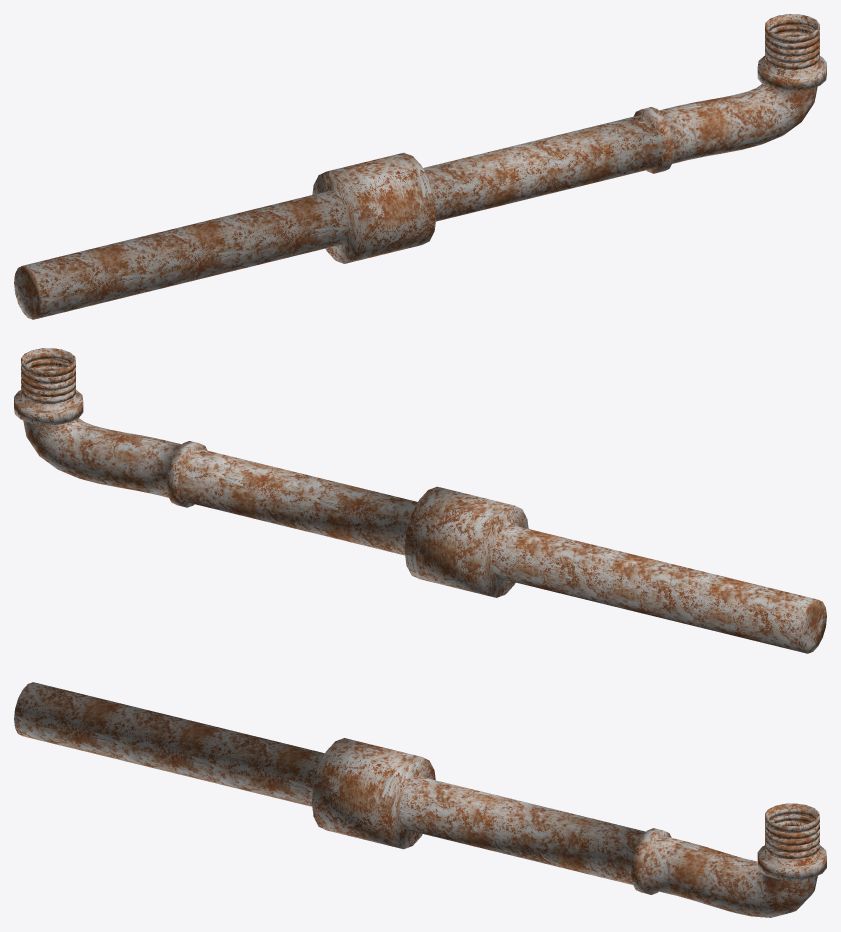
File: Metal_Pipe.fbx
3 views of the same model, one above another, from view 1: azimuth 30°, elevation 25°; view 2: azimuth 150°, elevation 25°; view 3: azimuth 330°, elevation 25° (orthographic).
Parts seen in each view (by area): view 1: Metal_Pipe_SM; view 2: Metal_Pipe_SM; view 3: Metal_Pipe_SM.
Boxes of the visible parts, bbox=[...] form: Metal_Pipe_SM: bbox=[14, 14, 826, 319]; Metal_Pipe_SM: bbox=[14, 348, 826, 653]; Metal_Pipe_SM: bbox=[14, 682, 826, 917].
Bounding box in the file's own units: 482 × 71.58 × 49.74.
Materials: 1 (1 with a texture image).
